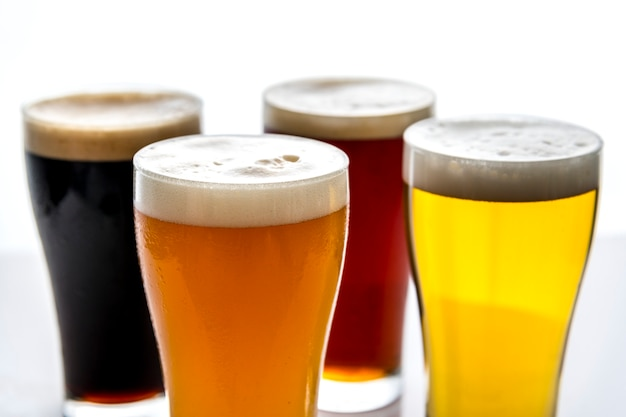alcohol: (253, 66, 440, 414), (17, 85, 211, 414), (132, 133, 351, 417), (401, 111, 602, 417)
